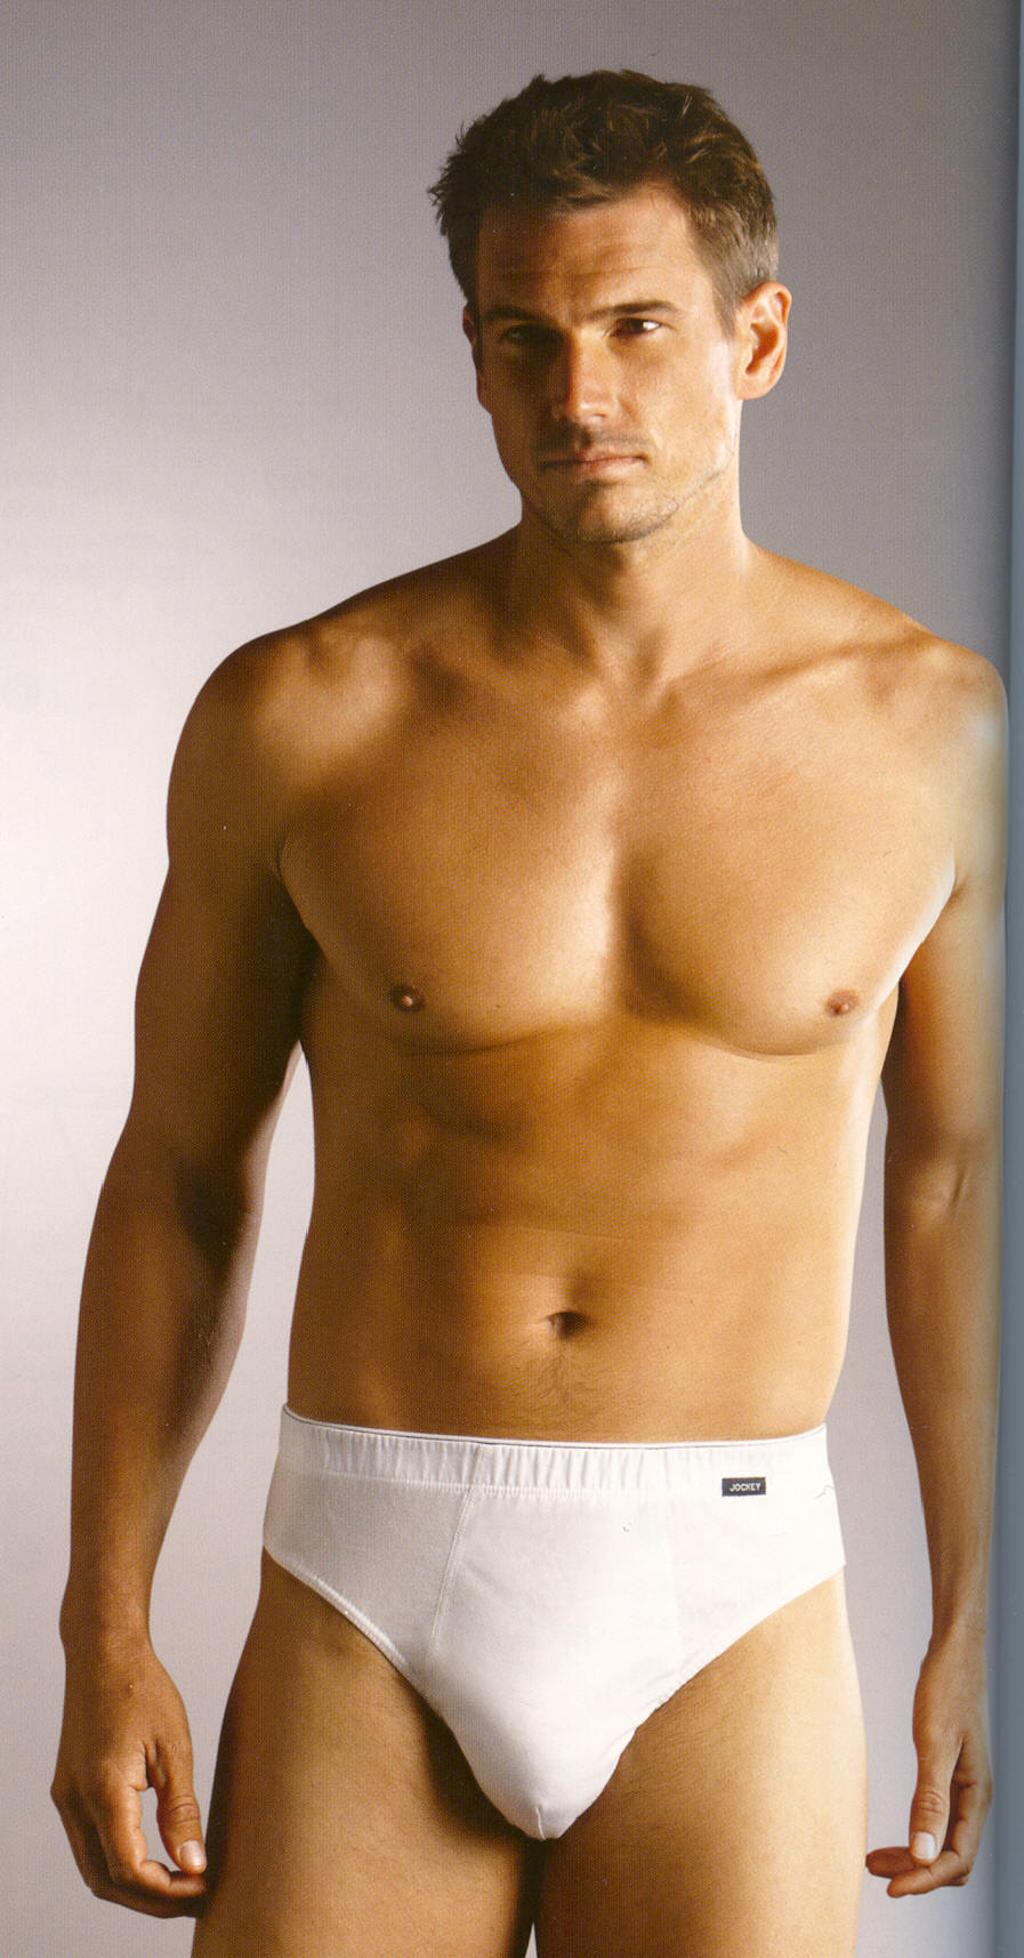face: (486, 200, 715, 525)
